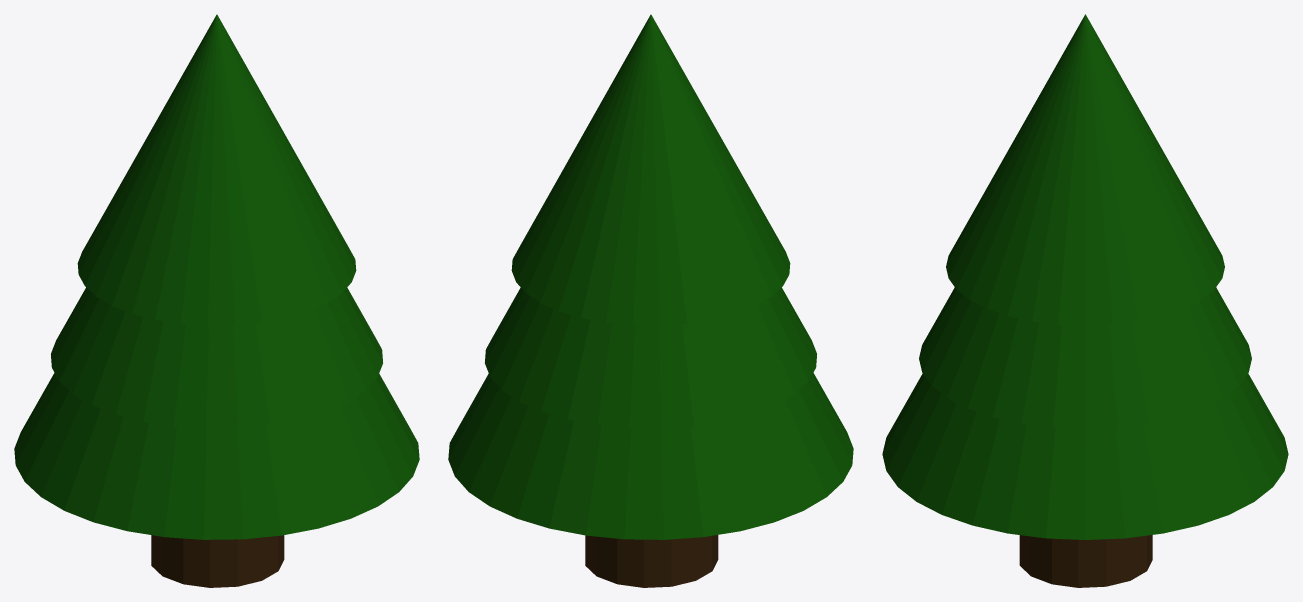
The model's file is tree_1.fbx.
3 renders of one model, left to right at view 1: azimuth 30°, elevation 25°; view 2: azimuth 150°, elevation 25°; view 3: azimuth 270°, elevation 25°, orthographic.
Parts seen in each view (by area): view 1: tree_1; view 2: tree_1; view 3: tree_1.
Part boxes in pixels (x1,y1,x2,y2): tree_1: [14, 14, 419, 587]; tree_1: [448, 14, 853, 587]; tree_1: [882, 14, 1288, 587].
Size of the model in its own units: 4464 by 6618 by 4464.
